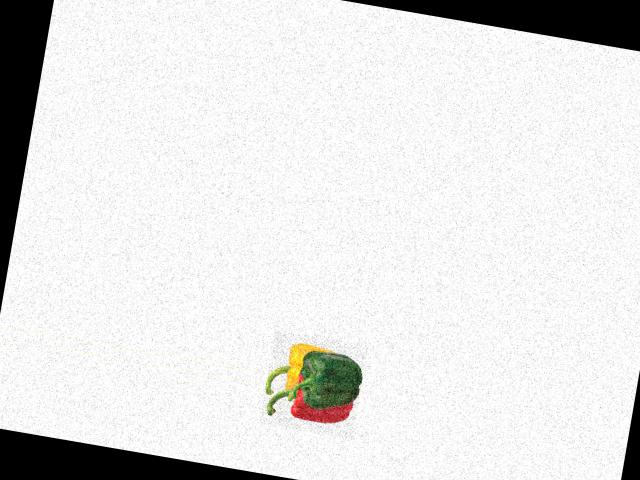bell_pepper: (262, 370, 358, 439)
